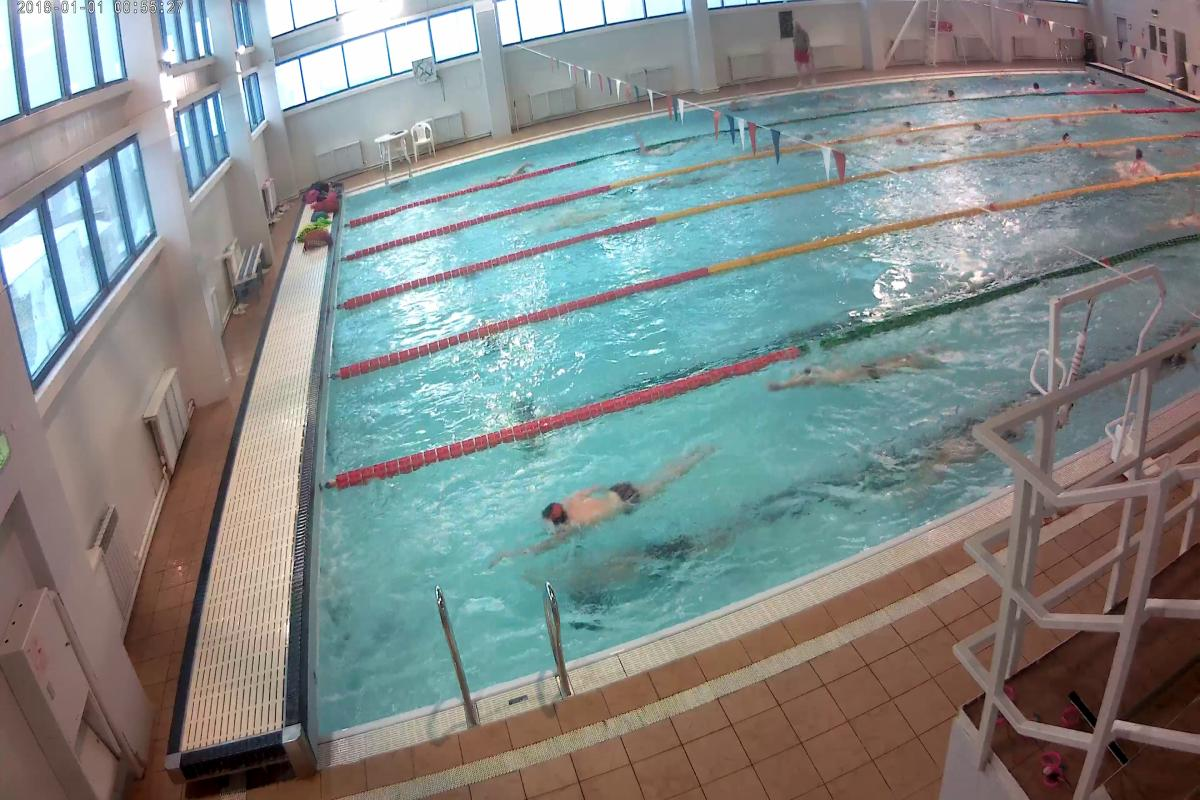swimmer: (512, 447, 718, 566), (886, 401, 1038, 474), (758, 343, 944, 399), (1121, 145, 1160, 180), (1052, 125, 1082, 148), (965, 120, 993, 137)
